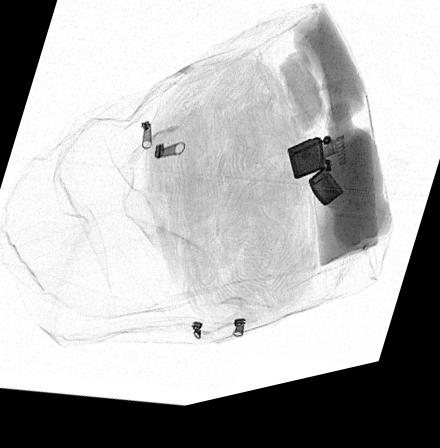Lighter: (287, 150, 344, 222)
